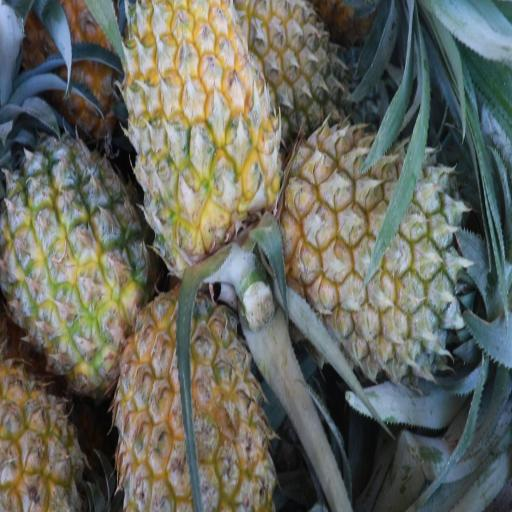------------------------------: (118, 282, 267, 512)
Pineapple - v8 v1: (130, 0, 276, 271), (4, 137, 144, 377)
